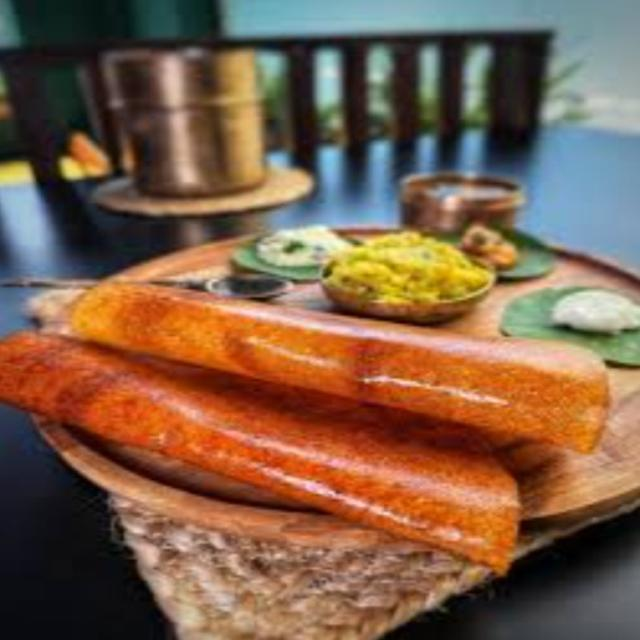DOSA: (0, 279, 610, 565)
